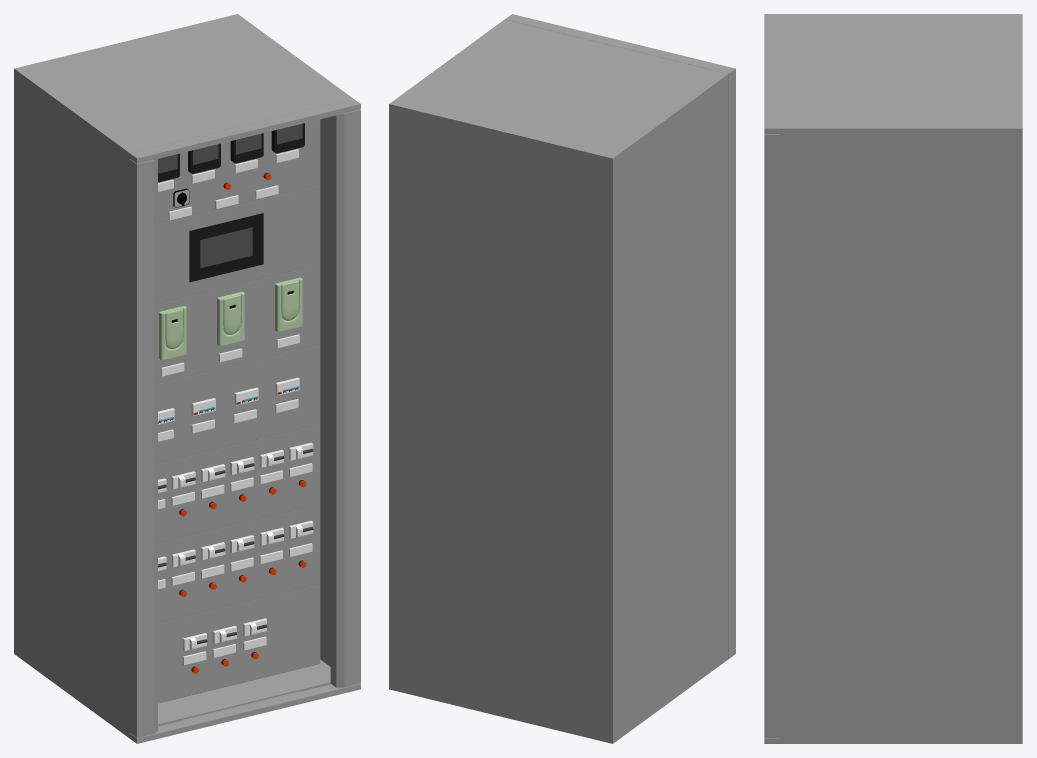
Rendered from 1号直流变电柜.glb.
The picture shows the model from 3 angles, left to right: view 1: azimuth 30°, elevation 25°; view 2: azimuth 150°, elevation 25°; view 3: azimuth 270°, elevation 25°; orthographic projection. The views are drawn at different scales.
Visible parts, largest first — view 1: 1号直流电源柜_外壳, 1号直流电源柜, 显示屏, 充电模块3, 充电模块2, 充电模块1, 控母电压, 控母电流, 电池电流; view 2: 1号直流电源柜_外壳; view 3: 1号直流电源柜_外壳.
Boxes of the visible parts, <box> form: 1号直流电源柜_外壳: <box>14,14,360,743</box>; 1号直流电源柜: <box>158,119,320,703</box>; 显示屏: <box>189,213,263,282</box>; 充电模块3: <box>275,277,302,331</box>; 充电模块2: <box>217,291,244,345</box>; 充电模块1: <box>159,306,186,360</box>; 控母电压: <box>230,133,263,163</box>; 控母电流: <box>271,123,304,153</box>; 电池电流: <box>188,143,220,173</box>; 1号直流电源柜_外壳: <box>389,14,735,743</box>; 1号直流电源柜_外壳: <box>764,14,1022,743</box>.
Size of the model in its own units: 1.2 by 3 by 1.14.
